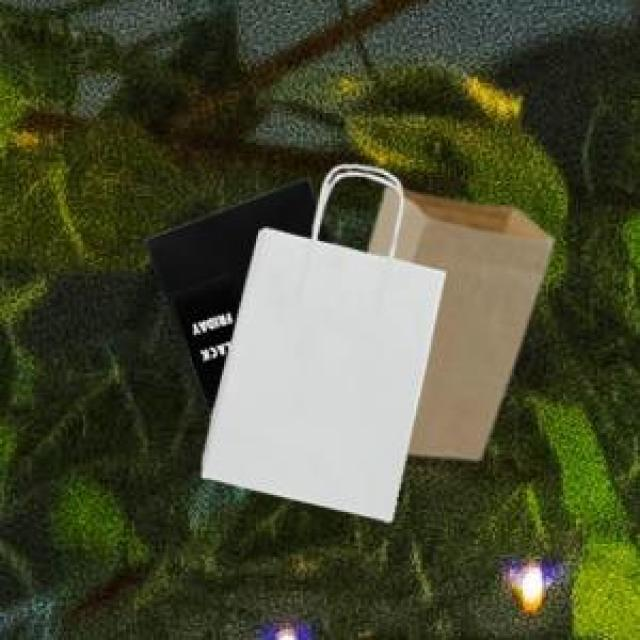paper: (198, 160, 442, 518), (365, 184, 548, 454), (141, 175, 325, 412)
